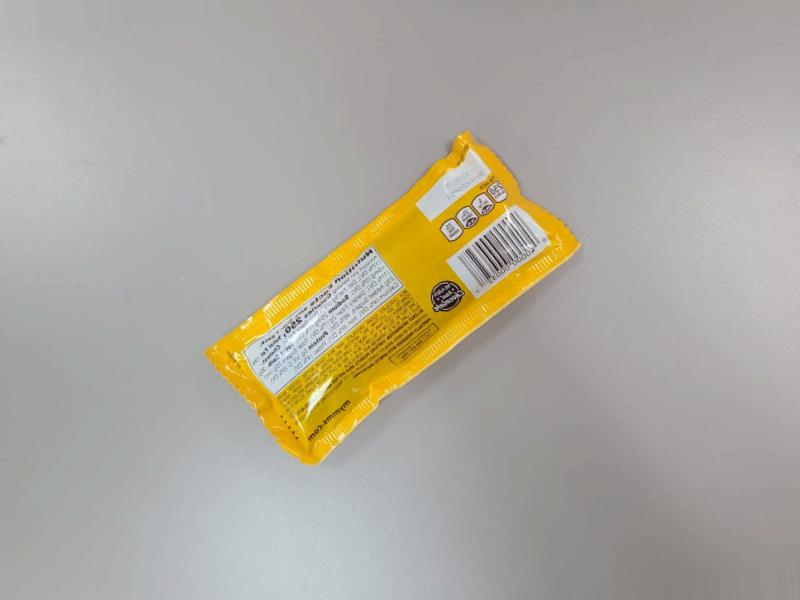m&m: (199, 126, 562, 463)
